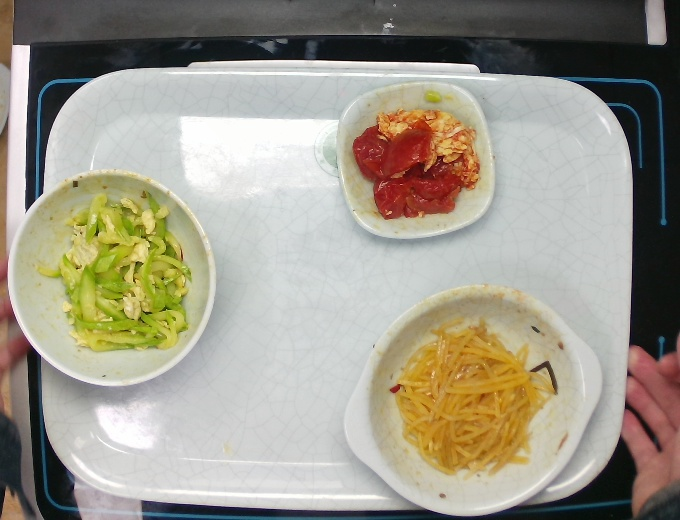JYsf-Fan_Wan: (9, 165, 215, 387)
JYsf-Shuang_Er_Wan: (339, 286, 607, 520)
JYsf-Si_Fang_Die: (337, 76, 502, 241)
